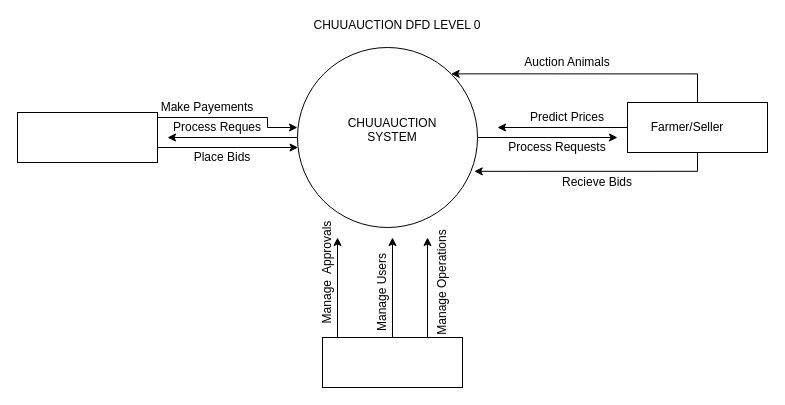
Image size: 785x405. Some labels were removed from this diagram. Each missing label, with the centre of its shape:
Admin: pixel 392 362
Buyer: pixel 87 137
